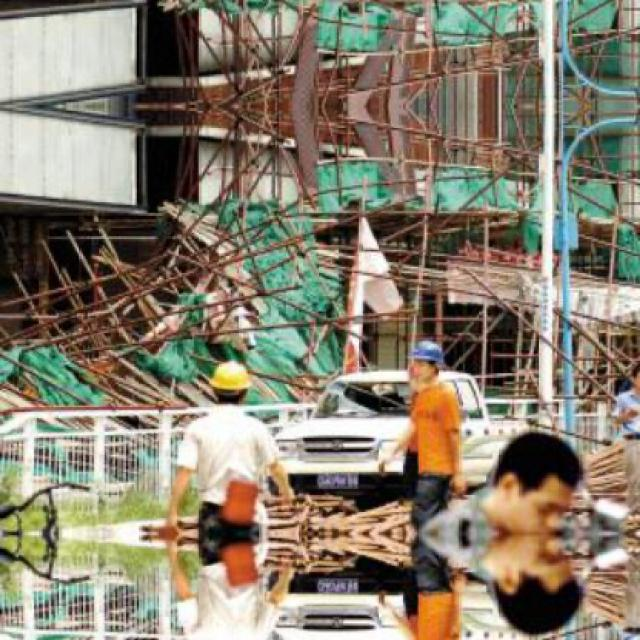con casco: (392, 336, 474, 383), (195, 357, 293, 394)
sin casco: (451, 408, 599, 514)
